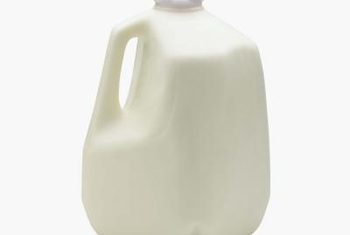Rec_Plastic: (66, 1, 279, 234)
